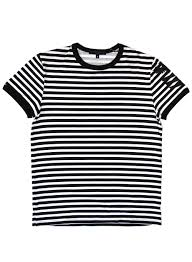striped: (2, 40, 191, 230)
